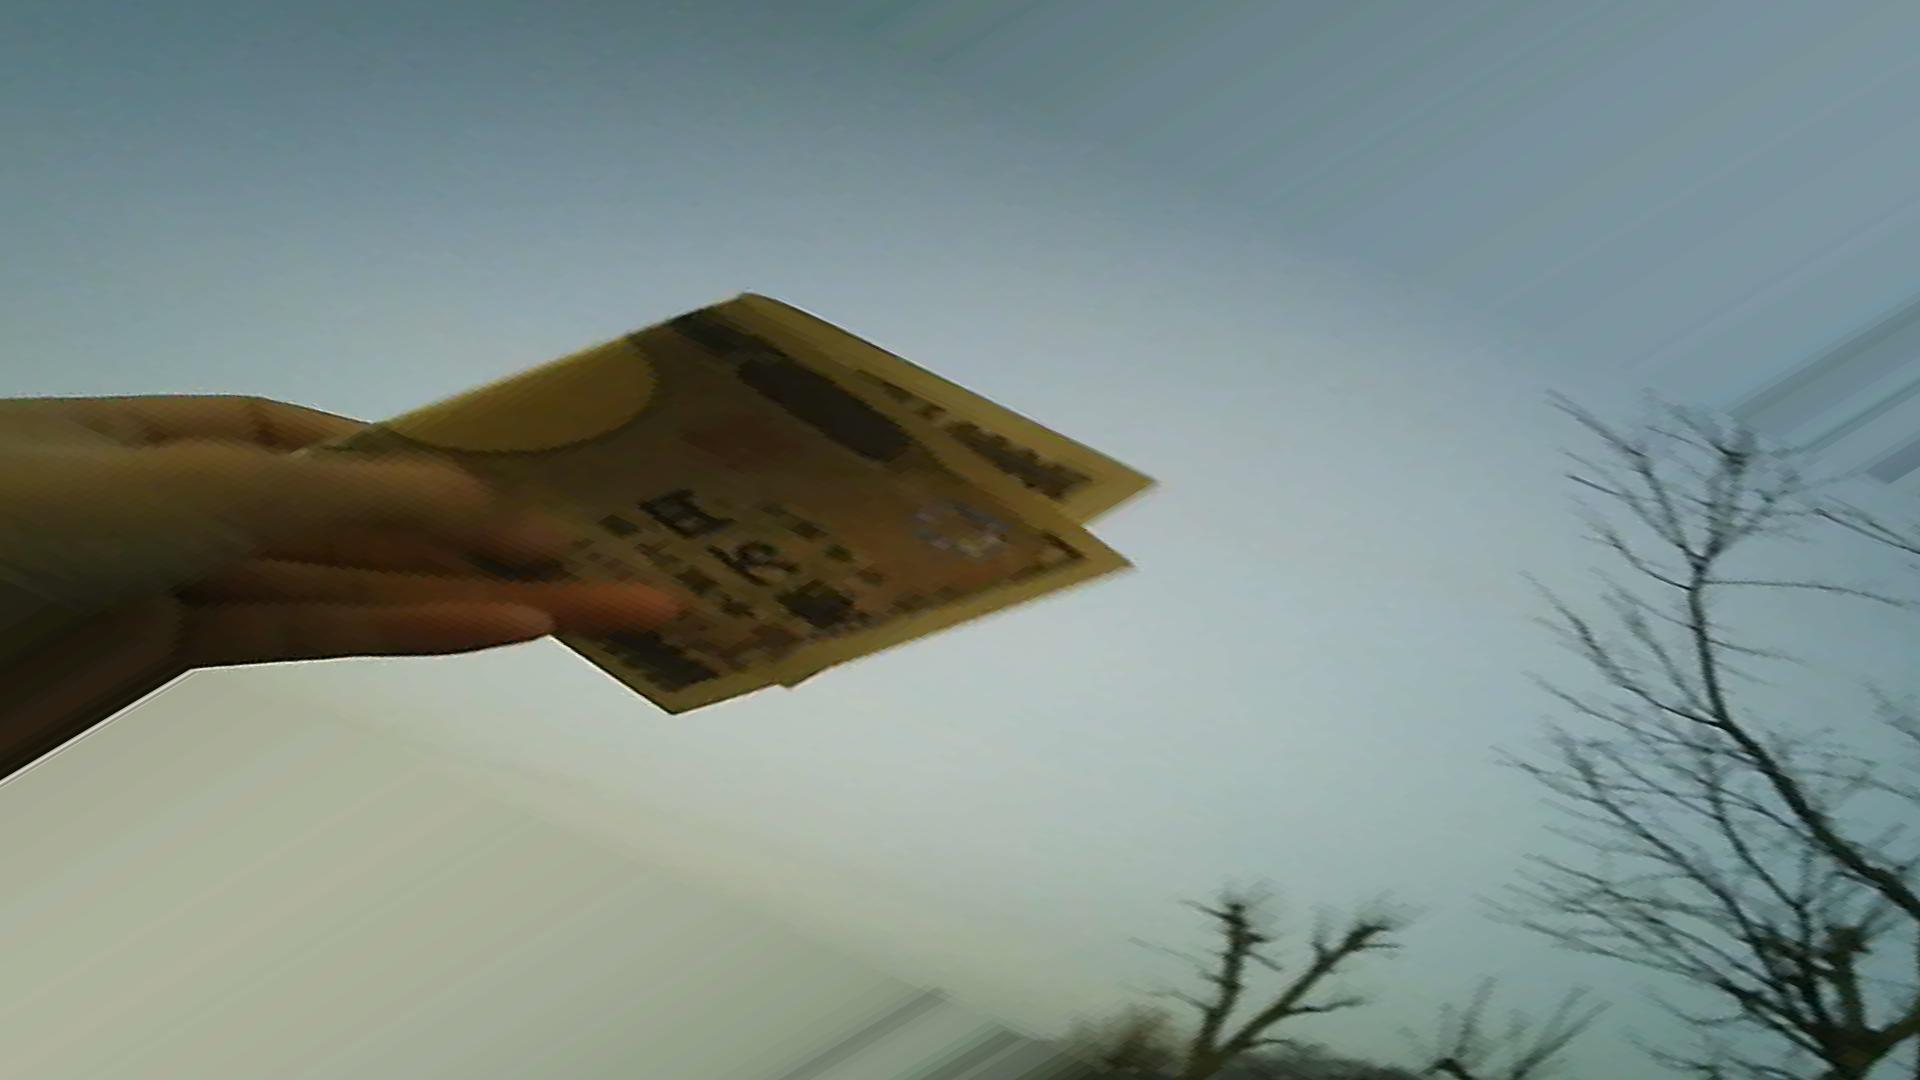10,000 Yen: (284, 253, 1135, 761)
